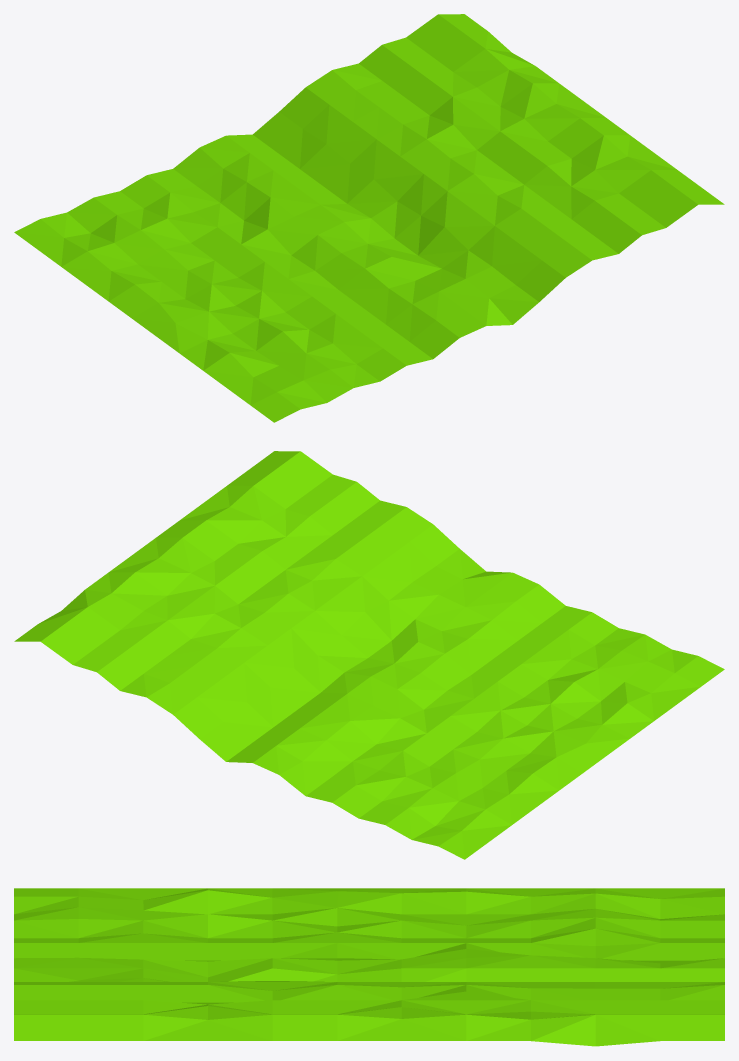
Rendered from grass.obj.
3 renders of one model, top to bottom at view 1: azimuth 30°, elevation 25°; view 2: azimuth 150°, elevation 25°; view 3: azimuth 270°, elevation 25°, orthographic. The views are drawn at different scales.
Visible parts, largest first — view 1: Plane_Plane.001; view 2: Plane_Plane.001; view 3: Plane_Plane.001.
Boxes of the visible parts, x1,y1,x2,y2 form: Plane_Plane.001: (14,14,724,422); Plane_Plane.001: (14,451,724,859); Plane_Plane.001: (14,888,724,1046).
Bounding box in the file's own units: 200 × 48.59 × 200.
